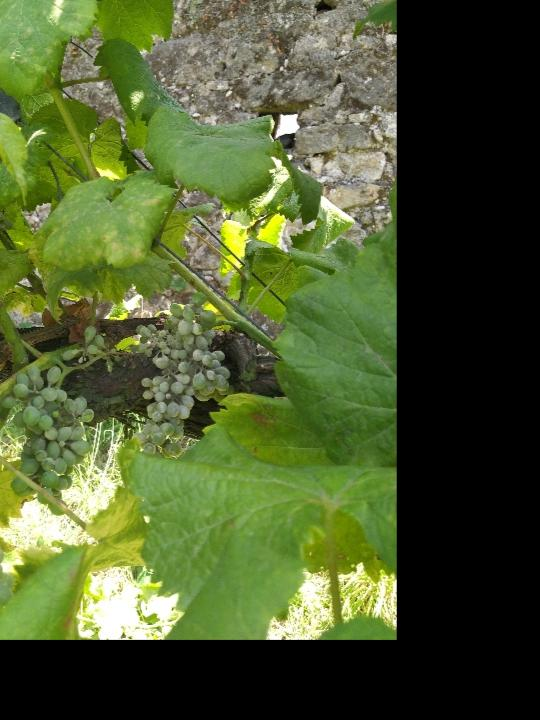grape: (134, 304, 235, 455), (0, 363, 95, 518)
